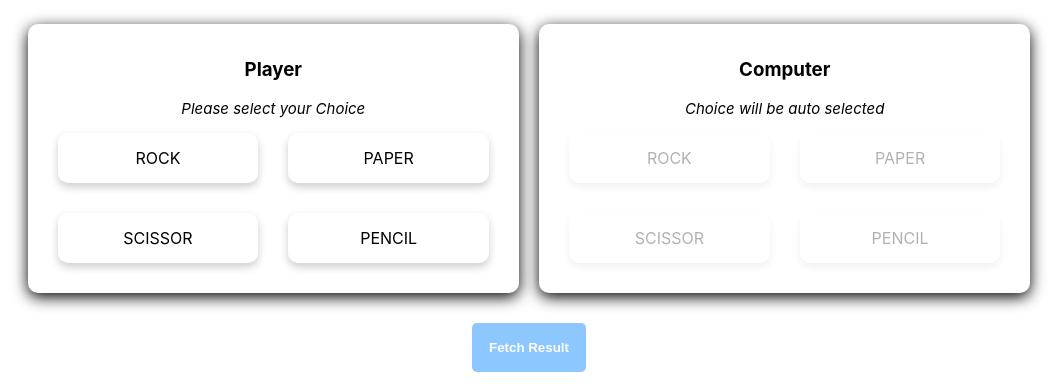
Scenario: Game - test cases › Player vs Comp
Expected: the button "Fetch Result" is disabled, 472,323 -> 586,372
Step 1. Click the text with test id "firstValue-PAPER" → (389, 158), box 288,133 -> 489,183
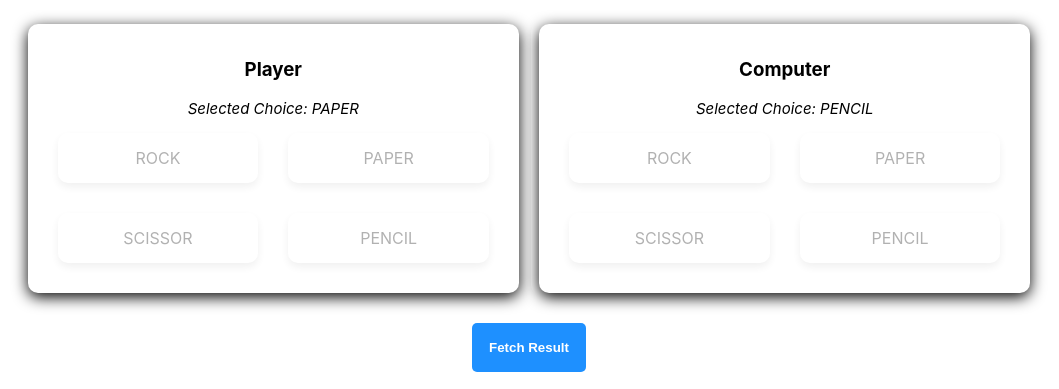
Now the text with test id "firstValue" shows "PAPER", box 188,99 -> 359,118
Now the button "Fetch Result" is enabled, box 472,323 -> 586,372
